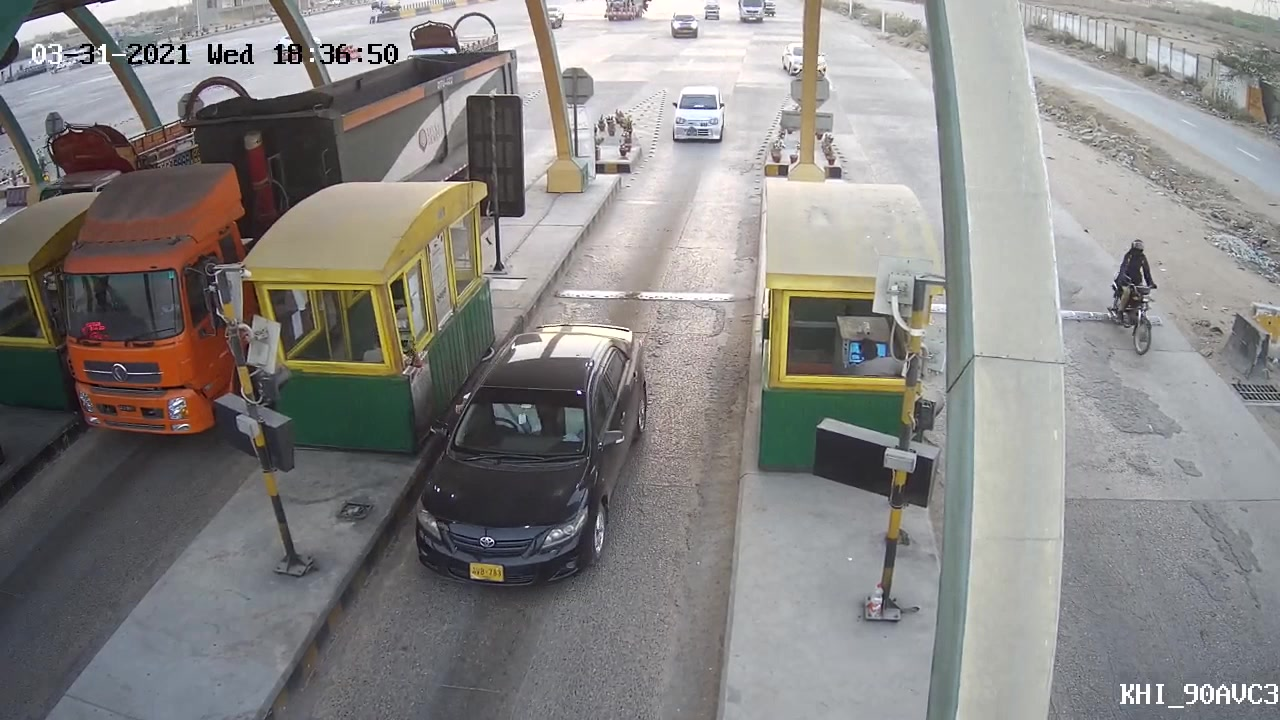F1: (406, 311, 666, 597)
